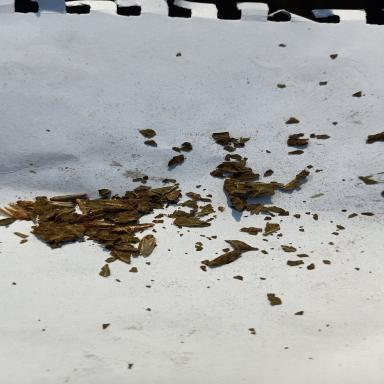pbw: (108, 222, 157, 234), (138, 234, 159, 258), (98, 201, 139, 212), (49, 192, 88, 201), (80, 221, 116, 228), (46, 200, 78, 207)
